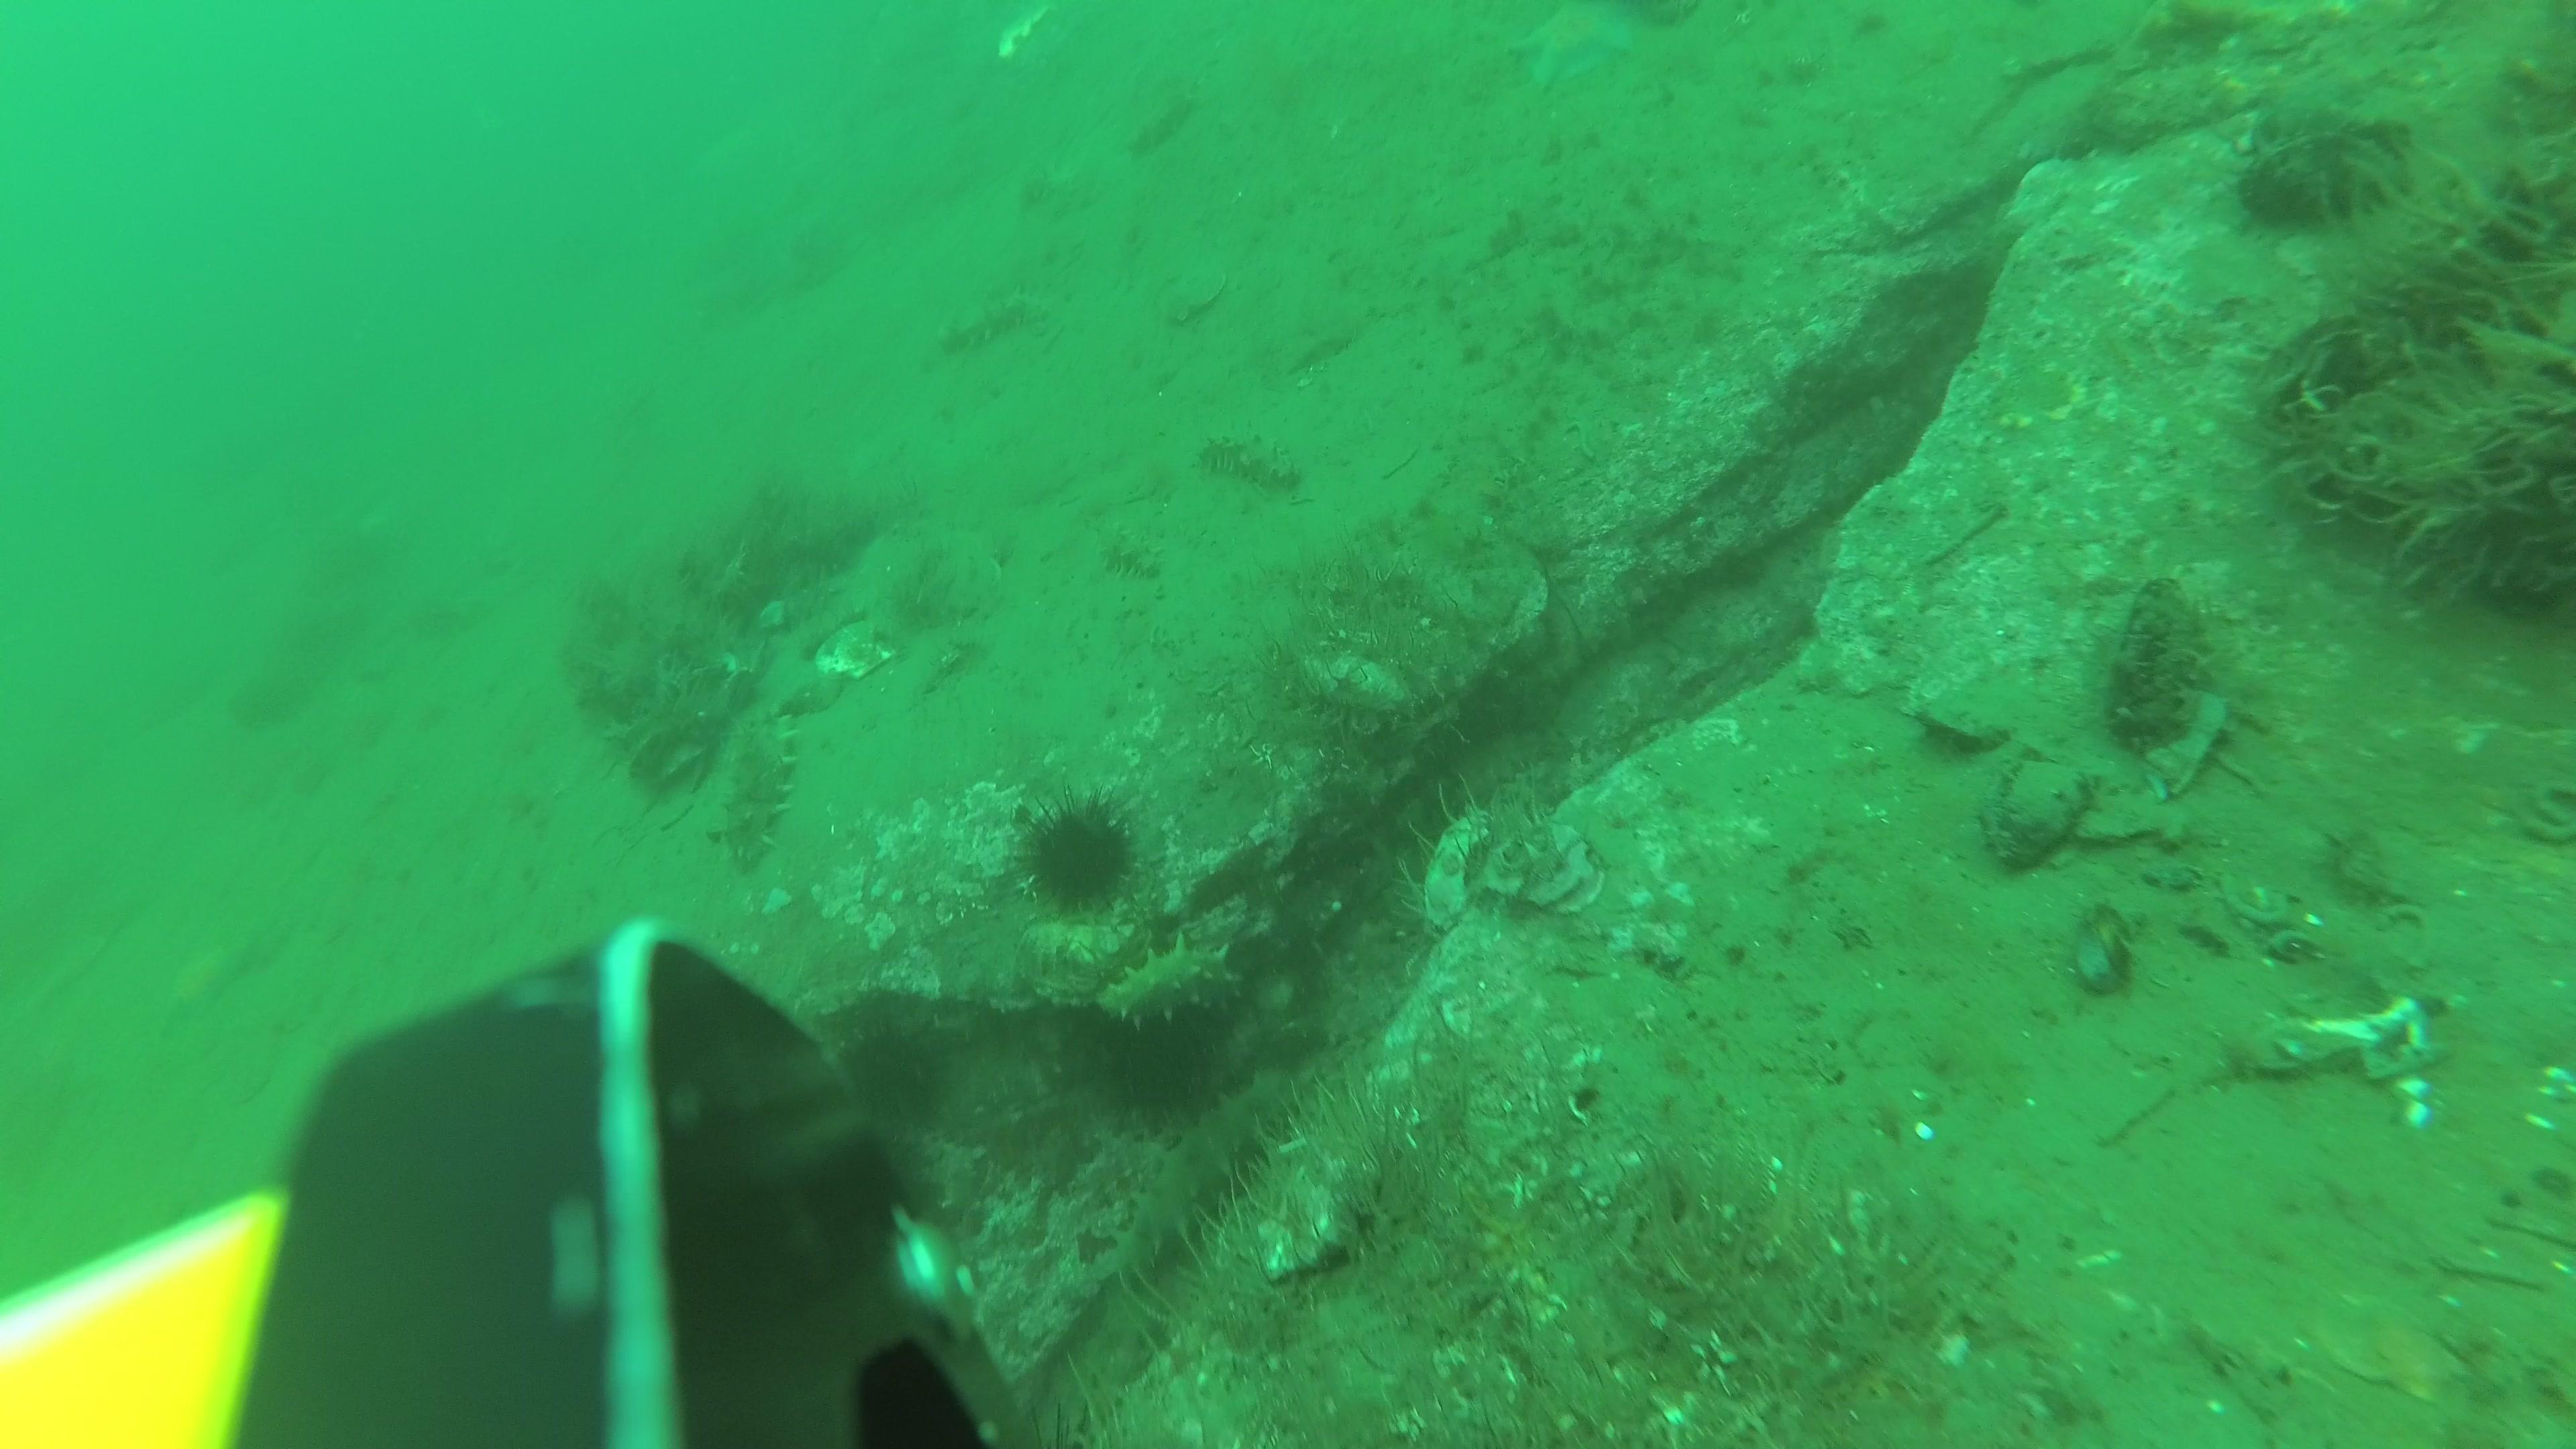echinus: (1021, 791, 1139, 922), (1093, 1016, 1219, 1122), (839, 1017, 943, 1143)
holothurian: (1120, 1069, 1309, 1286), (1102, 929, 1247, 1028), (725, 708, 794, 874), (941, 290, 1040, 354), (1200, 428, 1299, 492), (1122, 87, 1194, 154), (1017, 168, 1092, 218), (1104, 531, 1162, 580)
scallop: (2325, 1293, 2466, 1405), (927, 550, 1003, 626), (817, 625, 892, 683), (1161, 272, 1230, 327)
starfish: (150, 938, 242, 1046), (1518, 0, 1629, 85)
